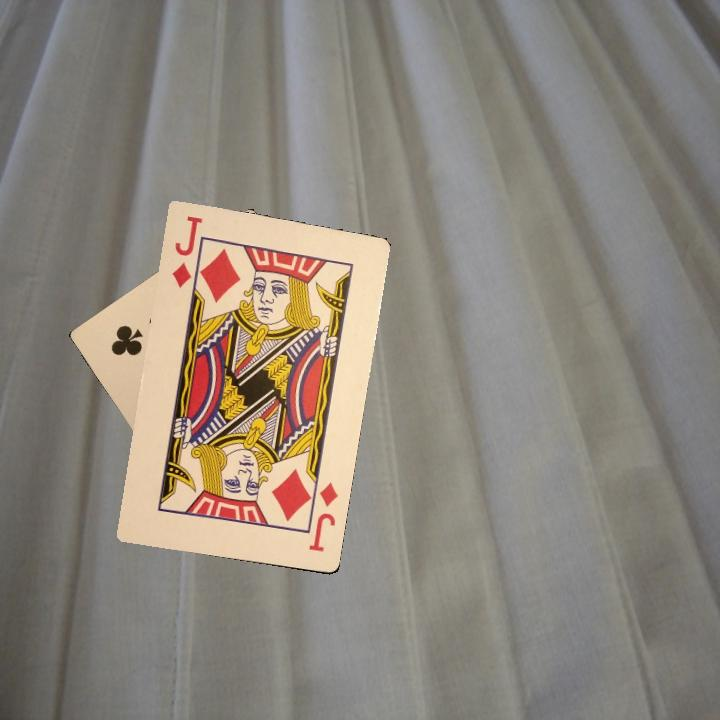Jd: (168, 211, 205, 291), (305, 479, 341, 554)
